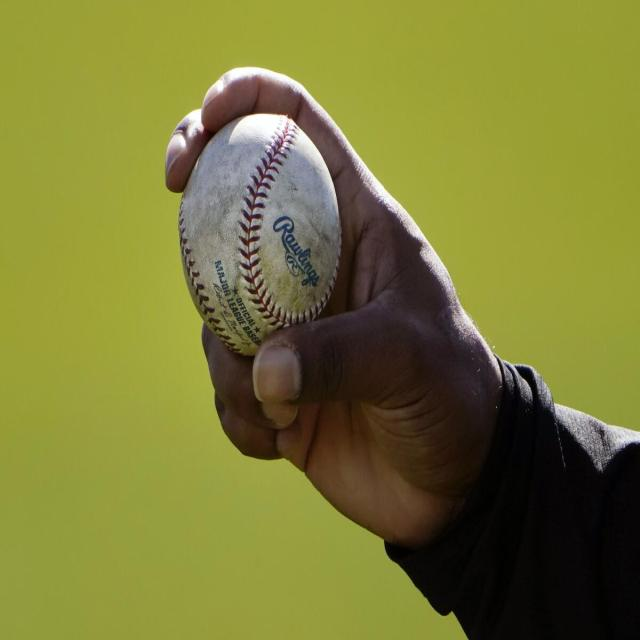beisbol ball: (177, 113, 341, 358)
